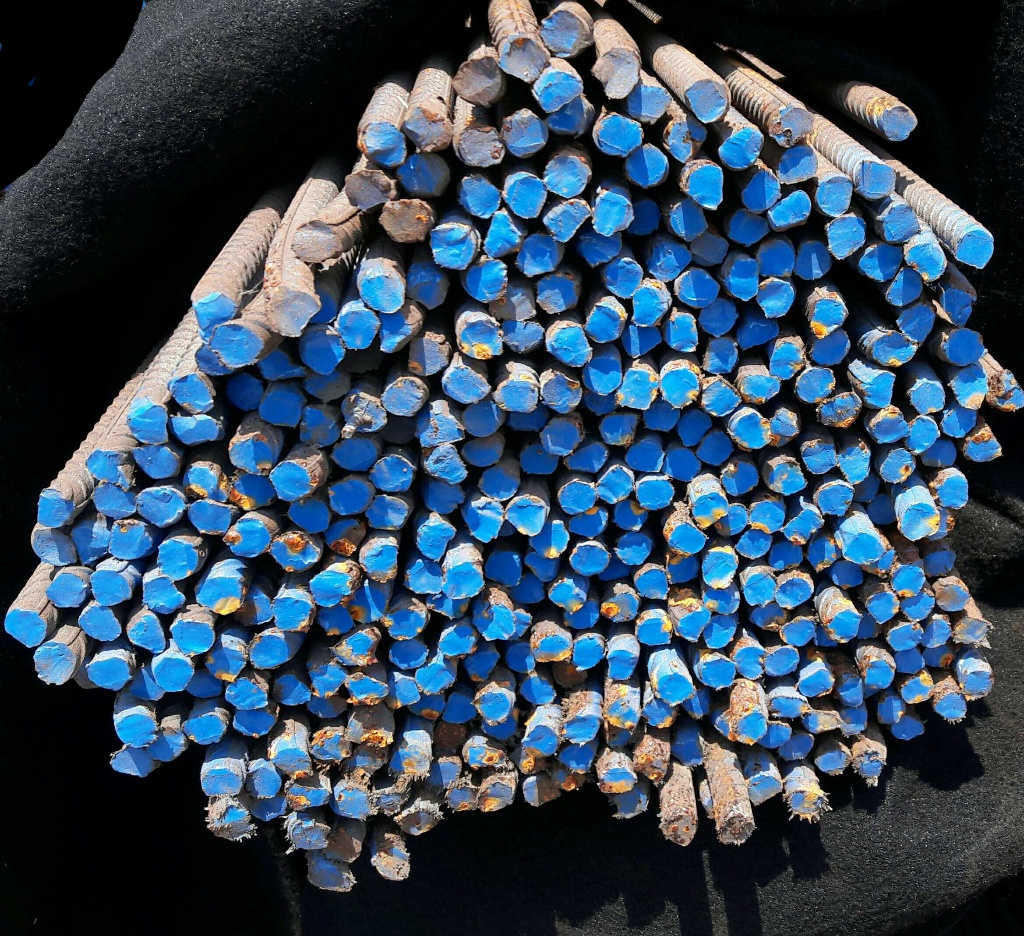dipstick: (267, 291, 319, 336), (399, 154, 449, 199), (595, 49, 639, 100), (501, 110, 548, 157), (541, 11, 588, 58), (453, 59, 501, 104), (499, 37, 547, 81), (345, 169, 395, 211), (211, 325, 261, 367), (418, 400, 464, 445), (404, 108, 451, 152), (545, 199, 589, 243), (300, 331, 345, 374), (544, 155, 590, 197), (137, 487, 185, 527), (625, 144, 668, 188), (685, 80, 730, 122), (535, 72, 583, 111), (194, 294, 237, 337), (293, 221, 338, 262), (383, 200, 428, 241), (593, 190, 634, 235), (597, 116, 642, 157), (107, 519, 153, 559), (504, 172, 544, 218), (347, 707, 394, 746), (334, 626, 382, 664), (518, 234, 561, 276), (458, 175, 500, 218), (184, 461, 228, 502), (228, 436, 272, 477), (616, 366, 657, 410), (167, 375, 213, 414), (458, 319, 504, 358), (646, 243, 692, 282), (381, 378, 428, 416), (86, 451, 134, 488), (443, 365, 491, 402), (484, 212, 521, 260), (364, 122, 405, 165), (664, 122, 707, 163), (719, 129, 763, 169), (31, 527, 78, 564), (33, 642, 74, 684), (466, 259, 507, 301), (431, 228, 473, 269), (409, 332, 449, 375), (817, 176, 860, 216), (742, 170, 781, 214), (770, 107, 814, 146), (195, 578, 244, 613), (286, 772, 331, 810), (341, 394, 386, 432), (816, 391, 862, 428), (406, 269, 448, 309), (226, 518, 269, 557), (685, 164, 723, 208), (272, 533, 317, 570), (230, 472, 275, 509), (357, 276, 403, 312), (458, 128, 504, 164), (157, 540, 198, 580), (209, 800, 250, 840), (550, 326, 591, 366), (543, 371, 582, 413), (629, 85, 672, 123), (506, 496, 546, 536), (537, 276, 578, 315), (337, 311, 379, 349), (4, 610, 46, 648), (768, 190, 810, 228), (170, 620, 213, 657), (423, 447, 466, 484), (494, 375, 537, 412), (860, 244, 903, 281), (467, 499, 503, 543), (300, 408, 339, 448), (129, 404, 168, 444), (270, 462, 310, 501), (906, 242, 946, 281), (463, 399, 505, 436), (133, 445, 181, 477), (188, 500, 233, 534), (333, 437, 378, 471), (873, 332, 918, 366), (474, 685, 513, 724), (897, 302, 936, 341), (660, 369, 698, 409), (882, 204, 920, 244), (936, 288, 976, 326), (441, 563, 482, 600), (757, 277, 794, 318), (828, 217, 865, 258), (370, 456, 412, 492), (809, 329, 851, 365), (86, 657, 130, 691), (421, 479, 465, 513), (604, 259, 643, 297), (226, 372, 263, 412), (662, 312, 699, 352), (856, 161, 896, 198), (272, 597, 313, 633), (146, 726, 187, 762), (94, 482, 136, 517), (142, 577, 184, 612), (776, 146, 818, 181), (127, 663, 165, 701), (541, 418, 579, 456), (418, 520, 455, 559), (810, 299, 847, 338), (957, 230, 994, 269), (91, 570, 131, 606), (128, 614, 164, 654), (476, 604, 516, 640), (795, 240, 831, 280), (249, 634, 290, 669), (581, 357, 622, 392), (728, 209, 769, 244), (79, 606, 121, 640), (478, 467, 520, 501), (952, 367, 986, 409), (327, 519, 364, 557), (597, 466, 634, 504), (681, 269, 719, 306), (703, 380, 741, 417), (784, 509, 822, 546), (700, 298, 738, 335), (946, 328, 984, 365), (901, 502, 939, 539), (757, 240, 793, 279), (205, 648, 245, 683), (310, 571, 350, 606), (331, 480, 372, 514), (398, 801, 439, 835), (258, 393, 300, 426), (345, 672, 387, 705), (366, 496, 408, 529), (307, 862, 353, 892), (37, 489, 73, 527), (586, 304, 622, 342), (734, 413, 772, 449), (671, 201, 707, 239), (884, 269, 923, 304), (529, 523, 569, 557), (288, 499, 329, 532), (843, 532, 884, 565), (225, 678, 267, 710), (172, 415, 218, 444), (363, 544, 398, 582), (798, 368, 836, 403), (401, 560, 440, 594), (154, 658, 194, 691), (728, 258, 759, 300), (350, 586, 386, 622), (485, 551, 521, 587), (478, 778, 516, 812), (112, 746, 155, 776), (519, 442, 558, 475), (463, 434, 503, 466), (600, 414, 640, 446), (868, 410, 908, 442), (116, 715, 157, 746), (564, 442, 606, 472), (693, 493, 728, 529), (465, 646, 500, 682), (881, 106, 917, 141), (677, 410, 711, 447), (696, 432, 733, 466), (313, 727, 351, 760), (505, 319, 543, 352), (690, 232, 728, 265), (877, 449, 915, 482), (46, 574, 85, 606), (272, 749, 312, 780), (838, 445, 869, 485), (703, 552, 737, 588), (664, 448, 700, 482), (560, 481, 597, 514), (633, 288, 665, 326), (233, 709, 278, 736), (289, 821, 328, 852), (388, 638, 427, 669), (770, 343, 804, 378), (439, 622, 475, 655), (616, 533, 652, 566), (627, 440, 663, 473), (941, 404, 977, 437), (391, 745, 428, 777), (660, 814, 697, 846), (717, 813, 755, 844), (201, 768, 243, 796), (739, 376, 779, 405), (677, 607, 711, 641), (809, 537, 842, 572), (934, 475, 969, 508), (989, 377, 1024, 410), (735, 526, 771, 558), (800, 442, 836, 474), (309, 666, 346, 697), (415, 663, 452, 694), (775, 578, 812, 609), (388, 609, 426, 639), (570, 545, 608, 575), (557, 743, 595, 773), (786, 790, 828, 817), (776, 731, 815, 760), (829, 609, 863, 642), (184, 715, 224, 743), (374, 848, 409, 880), (723, 463, 758, 495), (522, 726, 558, 757), (769, 462, 805, 493), (907, 417, 938, 453), (273, 675, 310, 705), (637, 480, 674, 510), (196, 345, 234, 374), (534, 632, 572, 661), (667, 524, 706, 552), (387, 676, 419, 710), (605, 699, 639, 731), (246, 767, 281, 798), (706, 338, 737, 373), (818, 484, 853, 515), (865, 592, 900, 623), (863, 373, 894, 408), (965, 431, 1001, 461), (954, 616, 990, 646), (600, 593, 637, 622), (428, 757, 461, 789), (523, 775, 556, 807), (752, 501, 785, 533), (892, 566, 925, 598), (635, 754, 669, 785), (337, 787, 372, 817), (520, 675, 555, 705), (549, 581, 585, 610), (779, 618, 816, 646), (704, 615, 736, 647), (614, 499, 647, 530), (734, 646, 765, 679), (658, 674, 693, 703), (910, 383, 945, 412), (734, 712, 766, 743), (901, 673, 934, 703), (764, 647, 798, 676), (748, 775, 782, 804), (934, 582, 968, 611), (524, 554, 559, 582), (798, 669, 833, 697), (715, 505, 746, 536), (744, 574, 775, 605), (864, 659, 895, 690), (644, 698, 677, 727), (702, 660, 735, 689), (564, 716, 599, 743), (446, 781, 477, 811), (572, 637, 603, 667), (635, 570, 667, 599), (666, 553, 698, 582), (637, 618, 671, 645), (888, 624, 923, 650), (854, 748, 884, 778), (770, 542, 802, 570), (505, 642, 534, 672), (616, 789, 647, 817), (922, 617, 950, 648), (893, 648, 925, 675), (964, 669, 992, 699), (609, 650, 635, 682), (600, 768, 636, 791), (876, 696, 906, 723), (838, 677, 865, 706), (837, 707, 866, 734), (891, 716, 925, 739), (935, 694, 965, 720), (803, 709, 838, 731), (817, 750, 849, 774), (767, 697, 807, 716)
